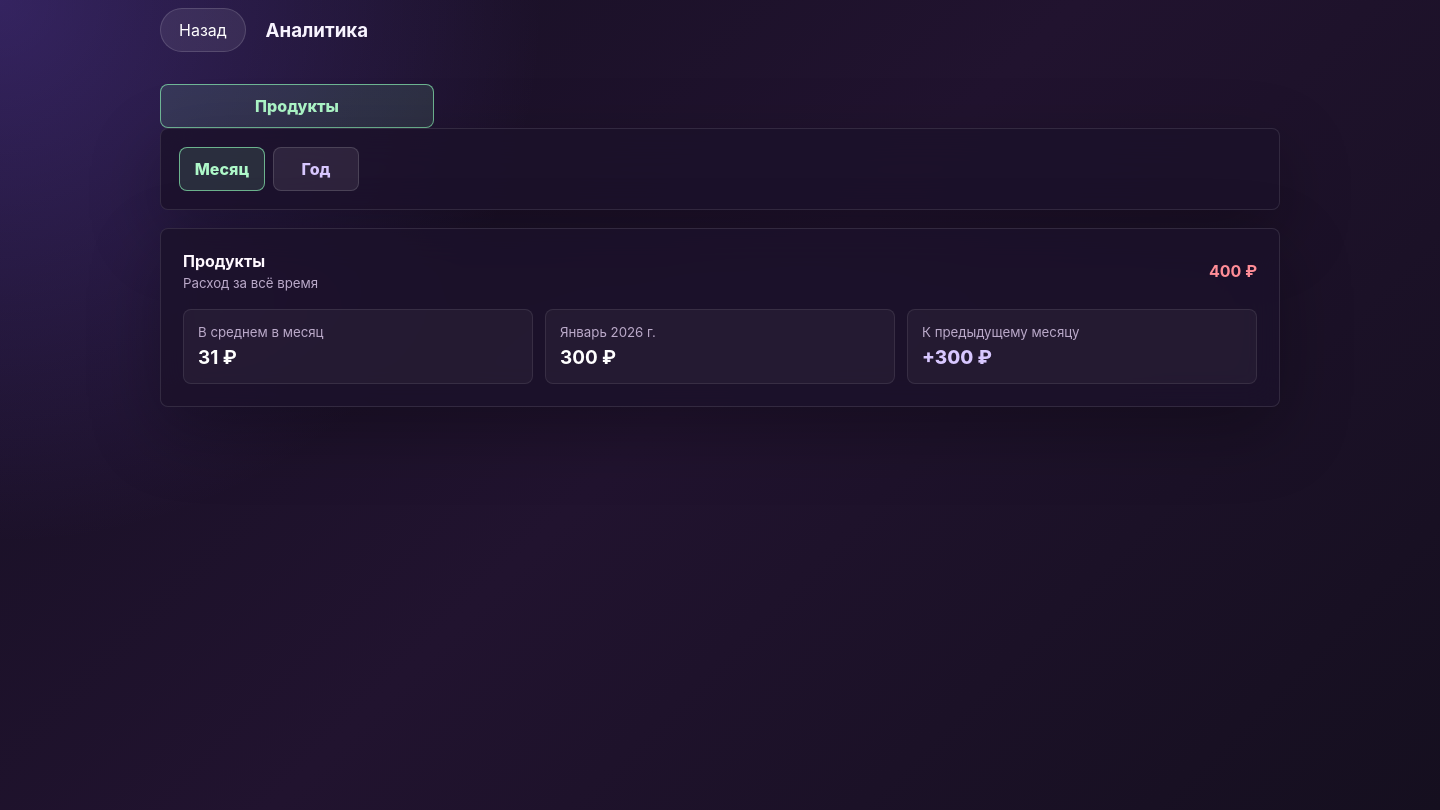
Scenario: CategoryAnalyticsPage › groups the numbers by years when the year grouping is chosen
Click the button "Год".
click(316, 169)  # box [273, 147, 359, 191]
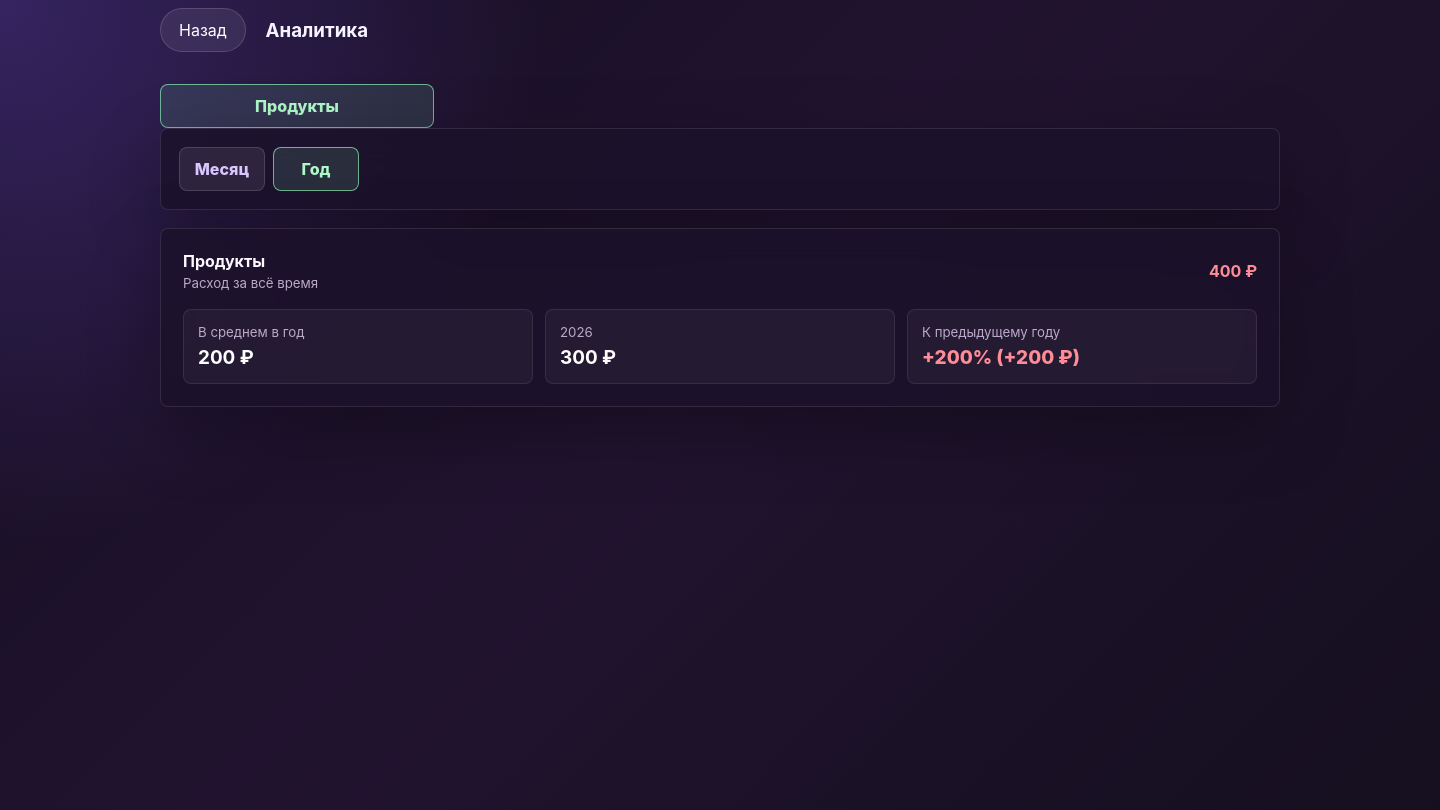
Check: the element with class "analytics-summary" shows "2026", box [560, 324, 593, 340]
Check: the element with class "analytics-summary" shows "В среднем в год", box [198, 324, 304, 340]
Check: the element with class "analytics-summary" shows "К предыдущему году", box [922, 324, 1060, 340]
